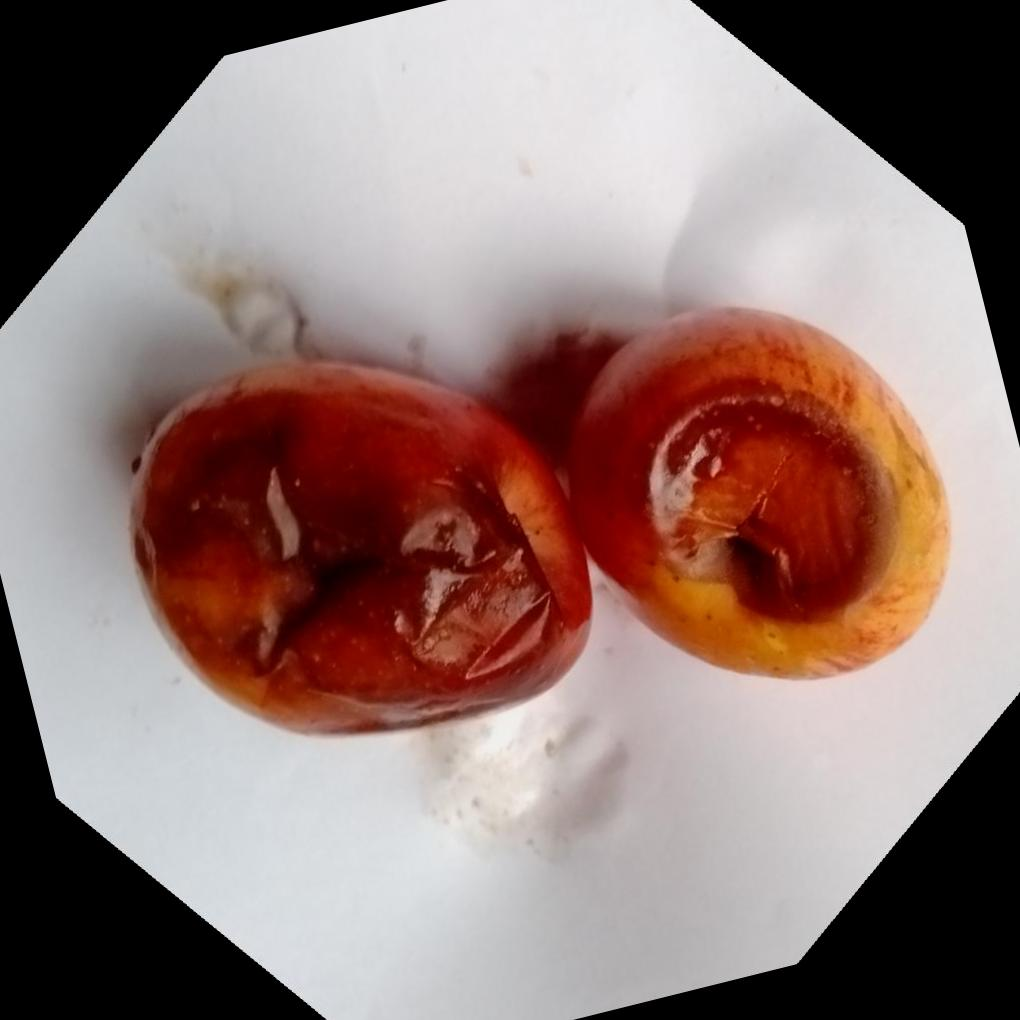FreshOrange: (131, 306, 955, 739)
